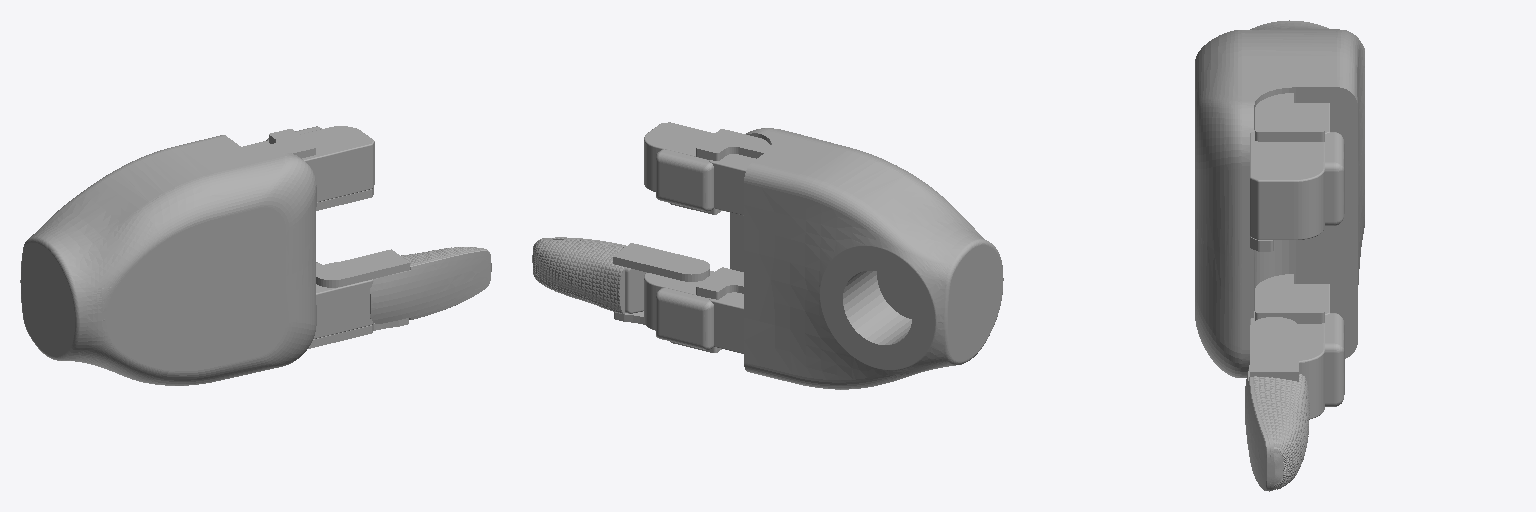
robot.urdf — g1_29dof_with_hand_rev_1_0:
<robot name="g1_29dof_with_hand_rev_1_0">
  <mujoco>
    <compiler meshdir="meshes" discardvisual="false"/>
  </mujoco>

  <!-- [CAUTION] uncomment when convert to mujoco -->
  <!-- <link name="world"></link>
  <joint name="floating_base_joint" type="floating">
    <parent link="world"/>
    <child link="right_hand_palm_link"/>
  </joint> -->

  <link name="right_hand_palm_link">
    <inertial>
      <origin xyz="0.06214634836 0.00050869656 -0.00058171093" rpy="0 0 0"/>
      <mass value="0.37283854"/>
      <inertia ixx="0.00027535181027" ixy="0.00001595519465" ixz="-0.00000242161890" iyy="0.00053951827219" iyz="0.00000042279435" izz="0.00039623390907"/>
    </inertial>
    <visual>
      <origin xyz="0 0 0" rpy="0 0 0"/>
      <geometry>
        <mesh filename="meshes/right_hand_palm_link.STL"/>
      </geometry>
      <material name="white">
        <color rgba="0.7 0.7 0.7 1"/>
      </material>
    </visual>
    <collision>
      <origin xyz="0 0 0" rpy="0 0 0"/>
      <geometry>
        <mesh filename="meshes/right_hand_palm_link.STL"/>
      </geometry>
    </collision>
  </link>
  <joint name="right_hand_thumb_0_joint" type="revolute">
    <origin xyz="0.0255 0 0" rpy="0 0 0"/>
    <axis xyz="0 1 0"/>
    <parent link="right_hand_palm_link"/>
    <child link="right_hand_thumb_0_link"/>
    <limit effort="2.45" velocity="6.857" lower="-1.04719755" upper="1.04719755"/>
  </joint>
  <link name="right_hand_thumb_0_link">
    <inertial>
      <origin xyz="-0.00088424580 0.00863407079 0.00094429336" rpy="0 0 0"/>
      <mass value="0.08623657"/>
      <inertia ixx="0.00001602919238" ixy="-0.00000010683177" ixz="0.00000016728875" iyy="0.00001451795012" iyz="0.00000051094752" izz="0.00001637877663"/>
    </inertial>
    <visual>
      <origin xyz="0 0 0" rpy="0 0 0"/>
      <geometry>
        <mesh filename="meshes/right_hand_thumb_0_link.STL"/>
      </geometry>
      <material name="white">
        <color rgba="0.7 0.7 0.7 1"/>
      </material>
    </visual>
    <collision>
      <origin xyz="0 0 0" rpy="0 0 0"/>
      <geometry>
        <mesh filename="meshes/right_hand_thumb_0_link.STL"/>
      </geometry>
    </collision>
  </link>
  <joint name="right_hand_thumb_1_joint" type="revolute">
    <origin xyz="-0.0025 0.0193 0" rpy="0 0 0"/>
    <axis xyz="0 0 1"/>
    <parent link="right_hand_thumb_0_link"/>
    <child link="right_hand_thumb_1_link"/>
    <limit effort="1.4" velocity="12" lower="-1.04719755" upper="0.72431163"/>
  </joint>
  <link name="right_hand_thumb_1_link">
    <inertial>
      <origin xyz="-0.00082788768 0.03547435774 -0.00038089960" rpy="0 0 0"/>
      <mass value="0.05885070"/>
      <inertia ixx="0.00001274699945" ixy="0.00000050770784" ixz="0.00000016088850" iyy="0.00000601573947" iyz="0.00000027839003" izz="0.00001234543582"/>
    </inertial>
    <visual>
      <origin xyz="0 0 0" rpy="0 0 0"/>
      <geometry>
        <mesh filename="meshes/right_hand_thumb_1_link.STL"/>
      </geometry>
      <material name="white">
        <color rgba="0.7 0.7 0.7 1"/>
      </material>
    </visual>
    <collision>
      <origin xyz="-0.001 0.032 0" rpy="0 0 0"/>
      <geometry>
        <box size="0.02 0.03 0.02"/>
      </geometry>
    </collision>
  </link>
  <joint name="right_hand_thumb_2_joint" type="revolute">
    <origin xyz="0 0.0458 0" rpy="0 0 0"/>
    <axis xyz="0 0 1"/>
    <parent link="right_hand_thumb_1_link"/>
    <child link="right_hand_thumb_2_link"/>
    <limit effort="1.4" velocity="12" lower="-1.74532925" upper="0"/>
  </joint>
  <link name="right_hand_thumb_2_link">
    <inertial>
      <origin xyz="-0.00171735242 0.02628192939 0.00010778879" rpy="0 0 0"/>
      <mass value="0.02030626"/>
      <inertia ixx="0.00000461267817" ixy="0.00000003422130" ixz="-0.00000000823881" iyy="0.00000153561368" iyz="0.00000002549885" izz="0.00000386625776"/>
    </inertial>
    <visual>
      <origin xyz="0 0 0" rpy="0 0 0"/>
      <geometry>
        <mesh filename="meshes/right_hand_thumb_2_link.STL"/>
      </geometry>
      <material name="white">
        <color rgba="0.7 0.7 0.7 1"/>
      </material>
    </visual>
    <collision>
      <origin xyz="0 0 0" rpy="0 0 0"/>
      <geometry>
        <mesh filename="meshes/right_hand_thumb_2_link.STL"/>
      </geometry>
    </collision>
  </link>
  <joint name="right_hand_middle_0_joint" type="revolute">
    <origin xyz="0.0777 -0.0016 -0.0285" rpy="0 0 0"/>
    <axis xyz="0 0 1"/>
    <parent link="right_hand_palm_link"/>
    <child link="right_hand_middle_0_link"/>
    <limit effort="1.4" velocity="12" lower="0" upper="1.57079632"/>
  </joint>
  <link name="right_hand_middle_0_link">
    <inertial>
      <origin xyz="0.03547435774 -0.00082788768 0.00038089960" rpy="0 0 0"/>
      <mass value="0.05885070"/>
      <inertia ixx="0.00000601573947" ixy="0.00000050770784" ixz="-0.00000027839003" iyy="0.00001274699945" iyz="-0.00000016088850" izz="0.00001234543582"/>
    </inertial>
    <visual>
      <origin xyz="0 0 0" rpy="0 0 0"/>
      <geometry>
        <mesh filename="meshes/right_hand_middle_0_link.STL"/>
      </geometry>
      <material name="white">
        <color rgba="0.7 0.7 0.7 1"/>
      </material>
    </visual>
    <collision>
      <origin xyz="0 0 0" rpy="0 0 0"/>
      <geometry>
        <mesh filename="meshes/right_hand_middle_0_link.STL"/>
      </geometry>
    </collision>
  </link>
  <joint name="right_hand_middle_1_joint" type="revolute">
    <origin xyz="0.0458 0 0" rpy="0 0 0"/>
    <axis xyz="0 0 1"/>
    <parent link="right_hand_middle_0_link"/>
    <child link="right_hand_middle_1_link"/>
    <limit effort="1.4" velocity="12" lower="0" upper="1.74532925"/>
  </joint>
  <link name="right_hand_middle_1_link">
    <inertial>
      <origin xyz="0.02628192939 -0.00171735242 -0.00010778879" rpy="0 0 0"/>
      <mass value="0.02030626"/>
      <inertia ixx="0.00000153561368" ixy="0.00000003422130" ixz="-0.00000002549885" iyy="0.00000461267817" iyz="0.00000000823881" izz="0.00000386625776"/>
    </inertial>
    <visual>
      <origin xyz="0 0 0" rpy="0 0 0"/>
      <geometry>
        <mesh filename="meshes/right_hand_middle_1_link.STL"/>
      </geometry>
      <material name="white">
        <color rgba="0.7 0.7 0.7 1"/>
      </material>
    </visual>
    <collision>
      <origin xyz="0 0 0" rpy="0 0 0"/>
      <geometry>
        <mesh filename="meshes/right_hand_middle_1_link.STL"/>
      </geometry>
    </collision>
  </link>
  <joint name="right_hand_index_0_joint" type="revolute">
    <origin xyz="0.0777 -0.0016 0.0285" rpy="0 0 0"/>
    <axis xyz="0 0 1"/>
    <parent link="right_hand_palm_link"/>
    <child link="right_hand_index_0_link"/>
    <limit effort="1.4" velocity="12" lower="0" upper="1.57079632"/>
  </joint>
  <link name="right_hand_index_0_link">
    <inertial>
      <origin xyz="0.03547435774 -0.00082788768 0.00038089960" rpy="0 0 0"/>
      <mass value="0.05885070"/>
      <inertia ixx="0.00000601573947" ixy="0.00000050770784" ixz="-0.00000027839003" iyy="0.00001274699945" iyz="-0.00000016088850" izz="0.00001234543582"/>
    </inertial>
    <visual>
      <origin xyz="0 0 0" rpy="0 0 0"/>
      <geometry>
        <mesh filename="meshes/right_hand_index_0_link.STL"/>
      </geometry>
      <material name="white">
        <color rgba="0.7 0.7 0.7 1"/>
      </material>
    </visual>
    <collision>
      <origin xyz="0 0 0" rpy="0 0 0"/>
      <geometry>
        <mesh filename="meshes/right_hand_index_0_link.STL"/>
      </geometry>
    </collision>
  </link>
  <joint name="right_hand_index_1_joint" type="revolute">
    <origin xyz="0.0458 0 0" rpy="0 0 0"/>
    <axis xyz="0 0 1"/>
    <parent link="right_hand_index_0_link"/>
    <child link="right_hand_index_1_link"/>
    <limit effort="1.4" velocity="12" lower="0" upper="1.74532925"/>
  </joint>
  <link name="right_hand_index_1_link">
    <inertial>
      <origin xyz="0.02628192939 -0.00171735242 -0.00010778879" rpy="0 0 0"/>
      <mass value="0.02030626"/>
      <inertia ixx="0.00000153561368" ixy="0.00000003422130" ixz="-0.00000002549885" iyy="0.00000461267817" iyz="0.00000000823881" izz="0.00000386625776"/>
    </inertial>
    <visual>
      <origin xyz="0 0 0" rpy="0 0 0"/>
      <geometry>
        <mesh filename="meshes/right_hand_index_1_link.STL"/>
      </geometry>
      <material name="white">
        <color rgba="0.7 0.7 0.7 1"/>
      </material>
    </visual>
    <collision>
      <origin xyz="0 0 0" rpy="0 0 0"/>
      <geometry>
        <mesh filename="meshes/right_hand_index_1_link.STL"/>
      </geometry>
    </collision>
  </link>
</robot>

--- Render facts (derived) ---
3 views of the same robot in one strip: view 1: azimuth 30°, elevation 25°; view 2: azimuth 150°, elevation 25°; view 3: azimuth 270°, elevation 25° (orthographic).
Model g1_29dof_with_hand_rev_1_0 with 8 links and 7 joints (7 revolute), rooted at right_hand_palm_link, posed every joint at zero.
Links seen in each view (by area): view 1: right_hand_palm_link, right_hand_middle_1_link, right_hand_index_0_link, right_hand_middle_0_link; view 2: right_hand_palm_link, right_hand_middle_1_link, right_hand_index_0_link, right_hand_middle_0_link; view 3: right_hand_palm_link, right_hand_index_0_link, right_hand_middle_1_link, right_hand_middle_0_link.
Boxes of the visible links, left/top/right/bottom form: right_hand_palm_link: left=20, top=135, right=316, bottom=385; right_hand_middle_1_link: left=316, top=247, right=491, bottom=330; right_hand_index_0_link: left=248, top=126, right=374, bottom=210; right_hand_middle_0_link: left=308, top=262, right=373, bottom=348; right_hand_palm_link: left=709, top=128, right=1003, bottom=389; right_hand_middle_1_link: left=532, top=237, right=709, bottom=324; right_hand_index_0_link: left=644, top=122, right=770, bottom=214; right_hand_middle_0_link: left=644, top=267, right=743, bottom=352; right_hand_palm_link: left=1195, top=20, right=1364, bottom=377; right_hand_index_0_link: left=1250, top=93, right=1344, bottom=251; right_hand_middle_1_link: left=1245, top=317, right=1309, bottom=491; right_hand_middle_0_link: left=1250, top=274, right=1344, bottom=419.
Bounding box of the posed robot: 0.1921 × 0.0486 × 0.086 m (x, y, z).
Meshes: 8 distinct files referenced, 4 mesh visuals loaded (4 binary STL); not drawn: 4 (reference not matched to a file when rendering).